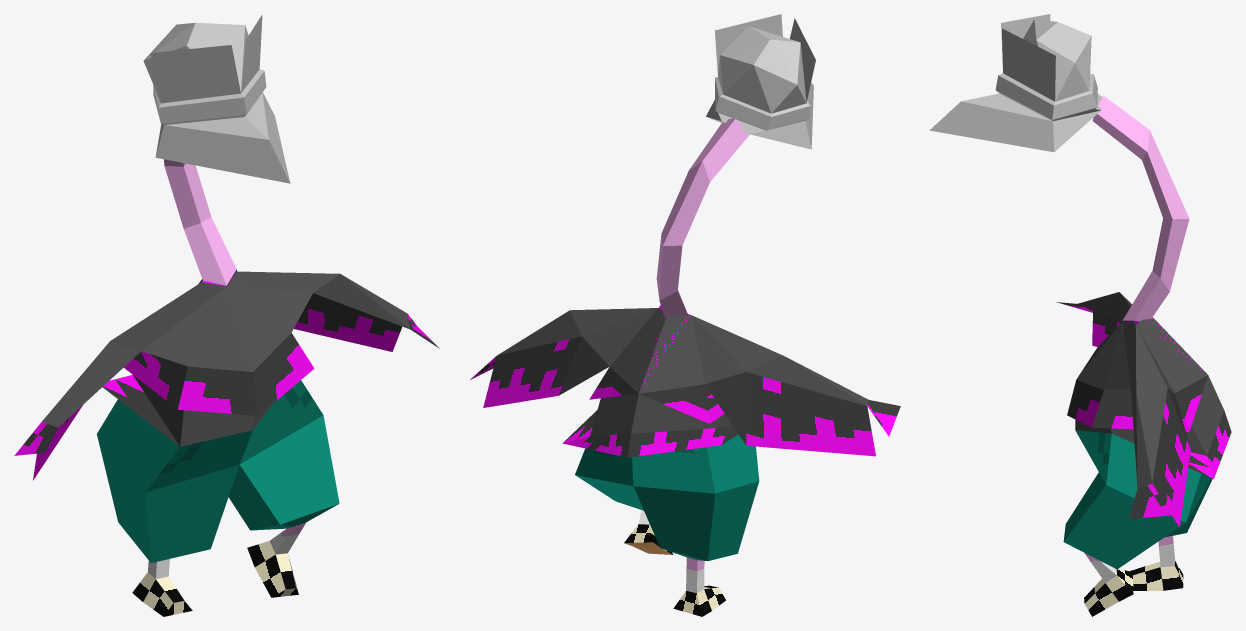
File: ost32.obj
3 renders of one model, left to right at view 1: azimuth 30°, elevation 25°; view 2: azimuth 150°, elevation 25°; view 3: azimuth 270°, elevation 25°, orthographic. The views are drawn at different scales.
Parts seen in each view (by area): view 1: Cube, Icosphere; view 2: Cube, Icosphere; view 3: Cube, Icosphere.
Boxes of the visible parts, <box> form: Cube: <box>14,159,439,616</box>; Icosphere: <box>143,15,290,183</box>; Cube: <box>470,118,900,616</box>; Icosphere: <box>706,14,815,149</box>; Cube: <box>1056,95,1231,616</box>; Icosphere: <box>929,14,1102,152</box>.
Bounding box in the file's own units: 11.21 × 15.1 × 7.47.
